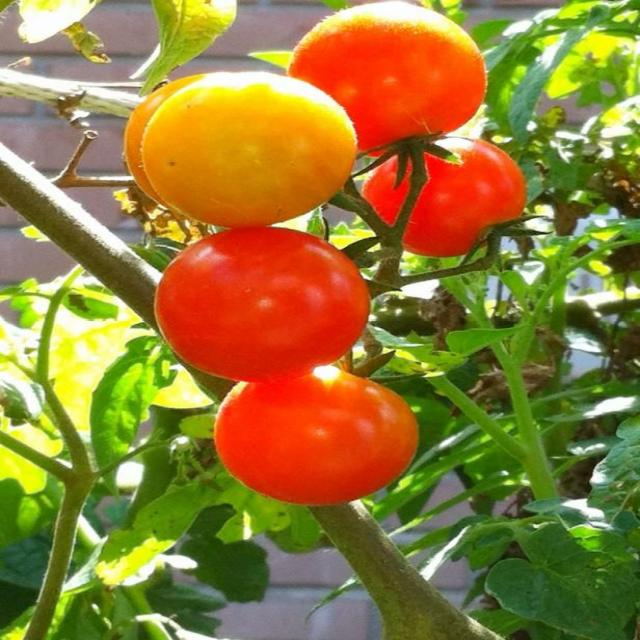level 3: (142, 70, 354, 228), (130, 66, 310, 204)
level 6: (158, 228, 366, 380), (297, 0, 492, 153), (220, 362, 420, 502), (362, 136, 530, 257)
